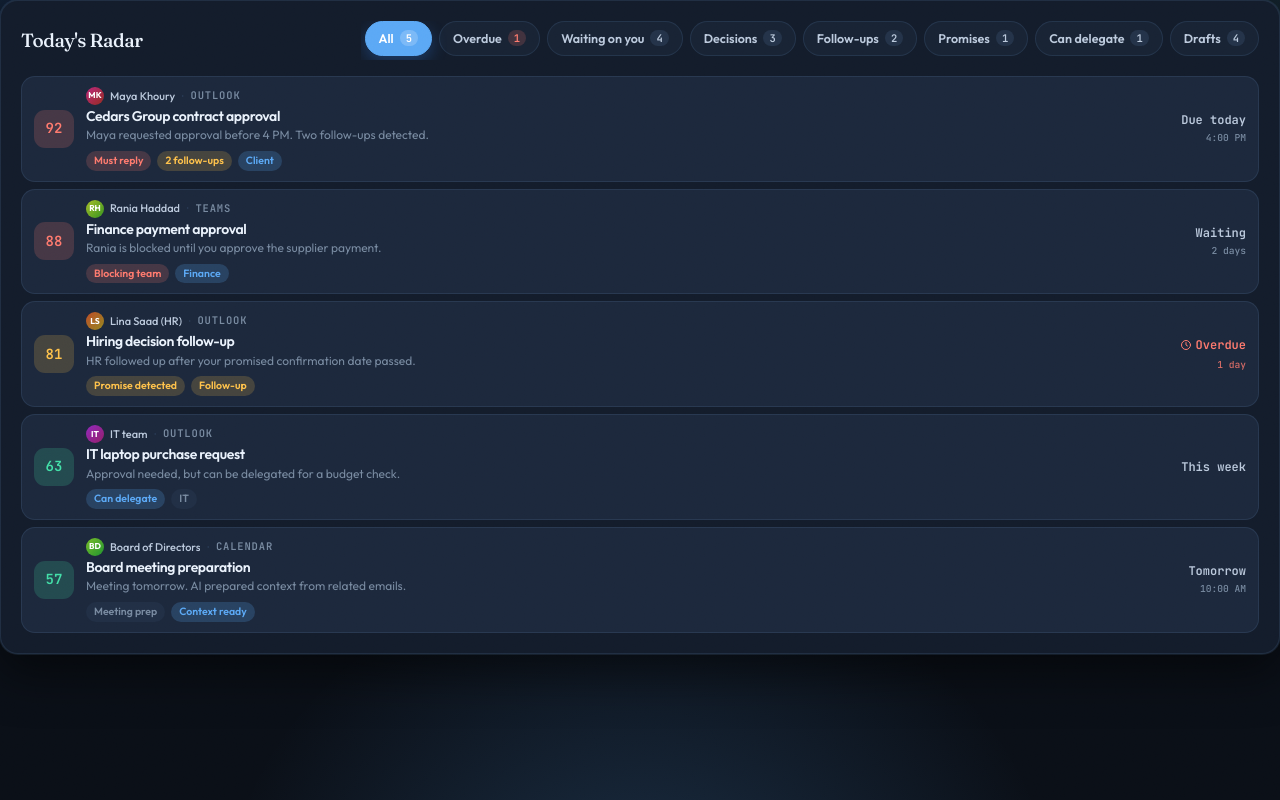
Test: TodaysRadar › filters to Decisions
The width and height of the screenshot is (1280, 800).
Click the tab "Decisions 3" at (743, 38), box 690,21 -> 796,56
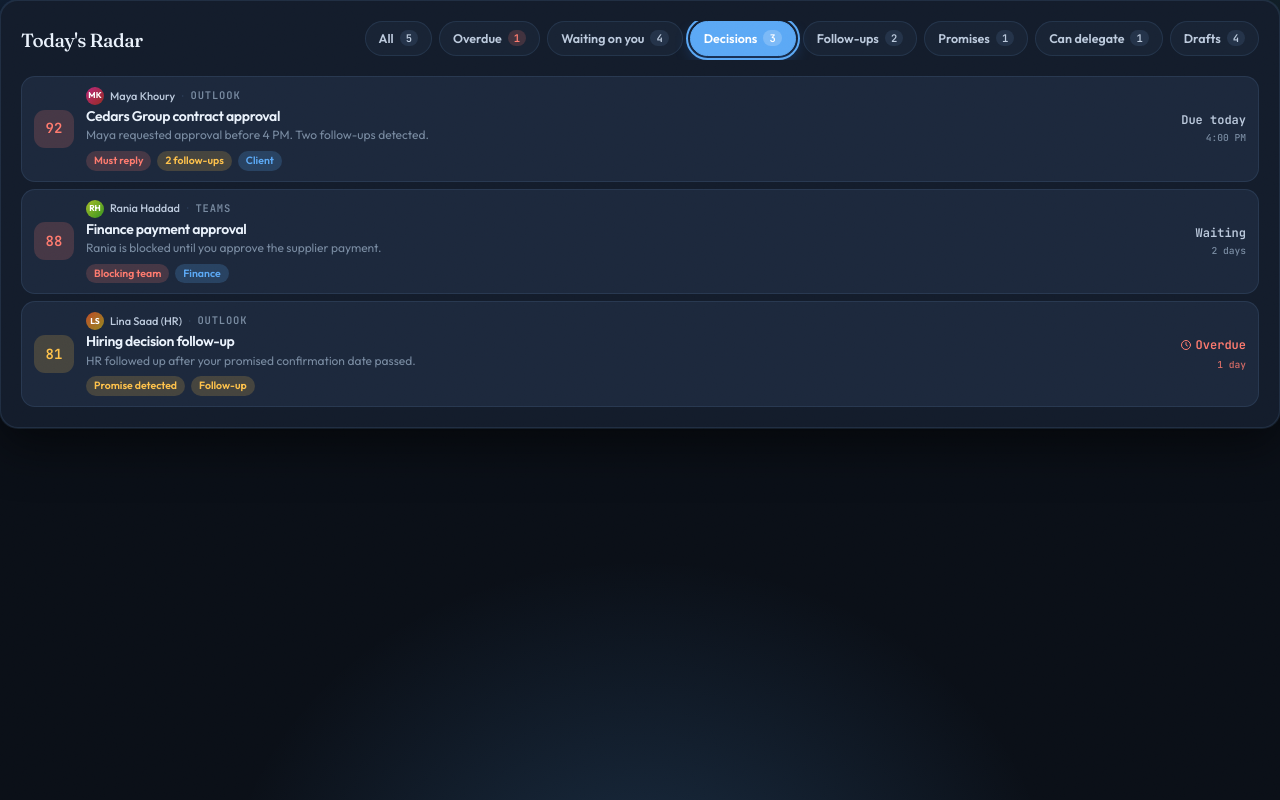
Expected: the heading "Cedars Group contract approval" is shown, 86,107 -> 280,125
Expected: the button "Board meeting preparation" is gone
